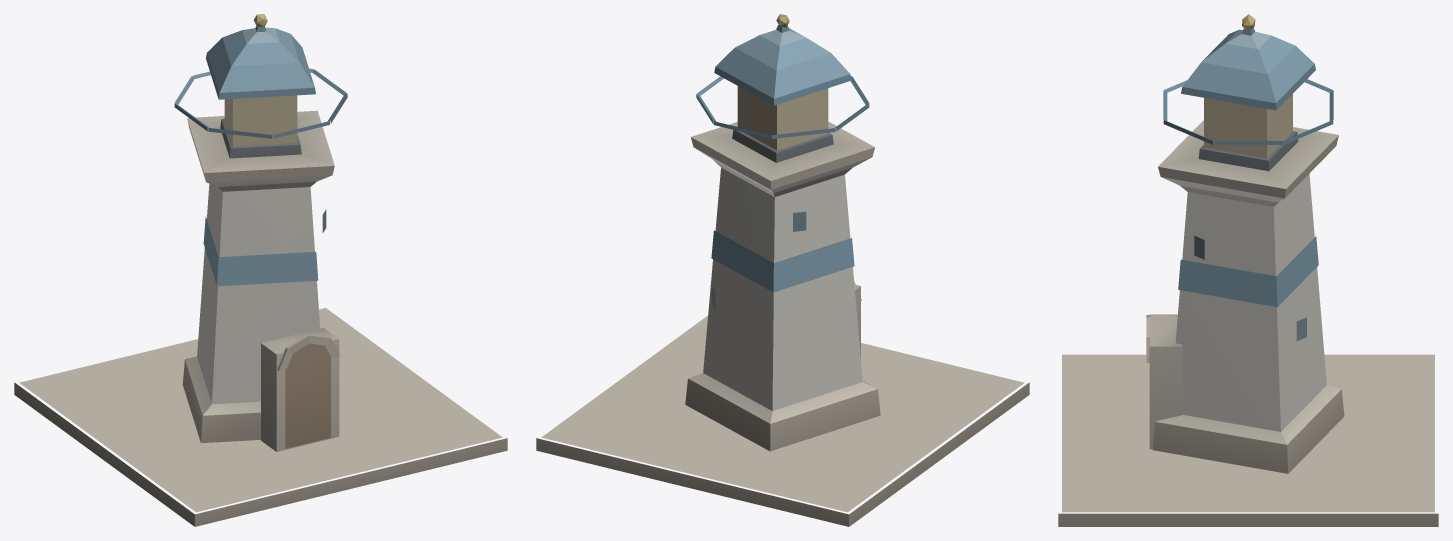
File: light.lod2.glb
3 renders of one model, left to right at view 1: azimuth 30°, elevation 25°; view 2: azimuth 150°, elevation 25°; view 3: azimuth 270°, elevation 25°, orthographic. The views are drawn at different scales.
Bounding box in the file's own units: 5.2 × 6.49 × 5.2.
